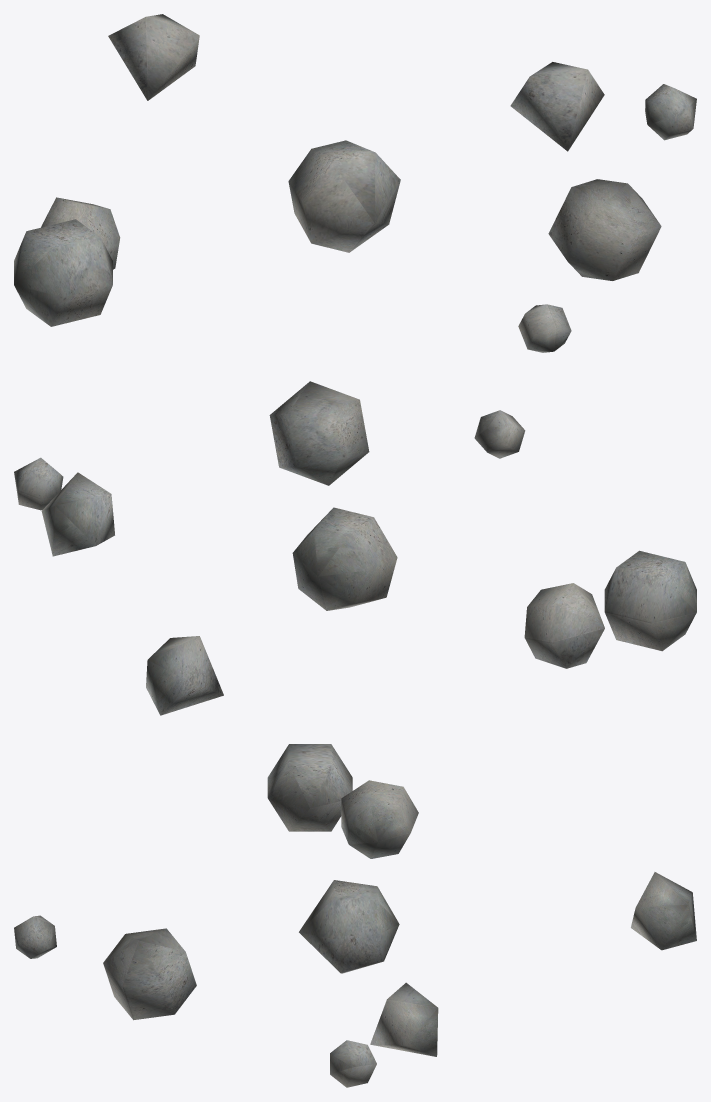
The model's file is stone9.obj.
3 views of the same model, one above another, from view 1: azimuth 30°, elevation 25°; view 2: azimuth 150°, elevation 25°; view 3: azimuth 270°, elevation 25° (orthographic). The views are drawn at different scales.
Visible parts, largest first — view 1: Sphere005, Sphere001, Sphere008, Sphere003, Sphere007, Sphere006, Sphere004, Sphere002; view 2: Sphere005, Sphere008, Sphere001, Sphere004, Sphere007, Sphere003, Sphere006, Sphere002; view 3: Sphere005, Sphere008, Sphere001, Sphere004, Sphere007, Sphere003, Sphere006, Sphere002.
Part boxes in pixels (left/top/right/bottom): Sphere005: left=288, top=140, right=400, bottom=252; Sphere001: left=14, top=219, right=112, bottom=326; Sphere008: left=548, top=179, right=661, bottom=280; Sphere003: left=510, top=62, right=604, bottom=151; Sphere007: left=108, top=14, right=199, bottom=100; Sphere006: left=645, top=84, right=696, bottom=140; Sphere004: left=41, top=197, right=120, bottom=269; Sphere002: left=518, top=304, right=571, bottom=352; Sphere005: left=292, top=507, right=397, bottom=610; Sphere008: left=269, top=381, right=369, bottom=485; Sphere001: left=604, top=550, right=696, bottom=651; Sphere004: left=524, top=583, right=604, bottom=668; Sphere007: left=146, top=636, right=223, bottom=715; Sphere003: left=41, top=472, right=114, bottom=556; Sphere006: left=14, top=457, right=63, bottom=510; Sphere002: left=474, top=410, right=525, bottom=458; Sphere005: left=299, top=880, right=399, bottom=973; Sphere008: left=103, top=928, right=196, bottom=1020; Sphere001: left=267, top=744, right=352, bottom=831; Sphere004: left=341, top=780, right=418, bottom=858; Sphere007: left=631, top=872, right=696, bottom=950; Sphere003: left=370, top=982, right=438, bottom=1056; Sphere006: left=330, top=1040, right=376, bottom=1087; Sphere002: left=14, top=915, right=56, bottom=958.
Bounding box in the file's own units: 206 × 32.55 × 201.
Materials: 1 (1 with a texture image).
